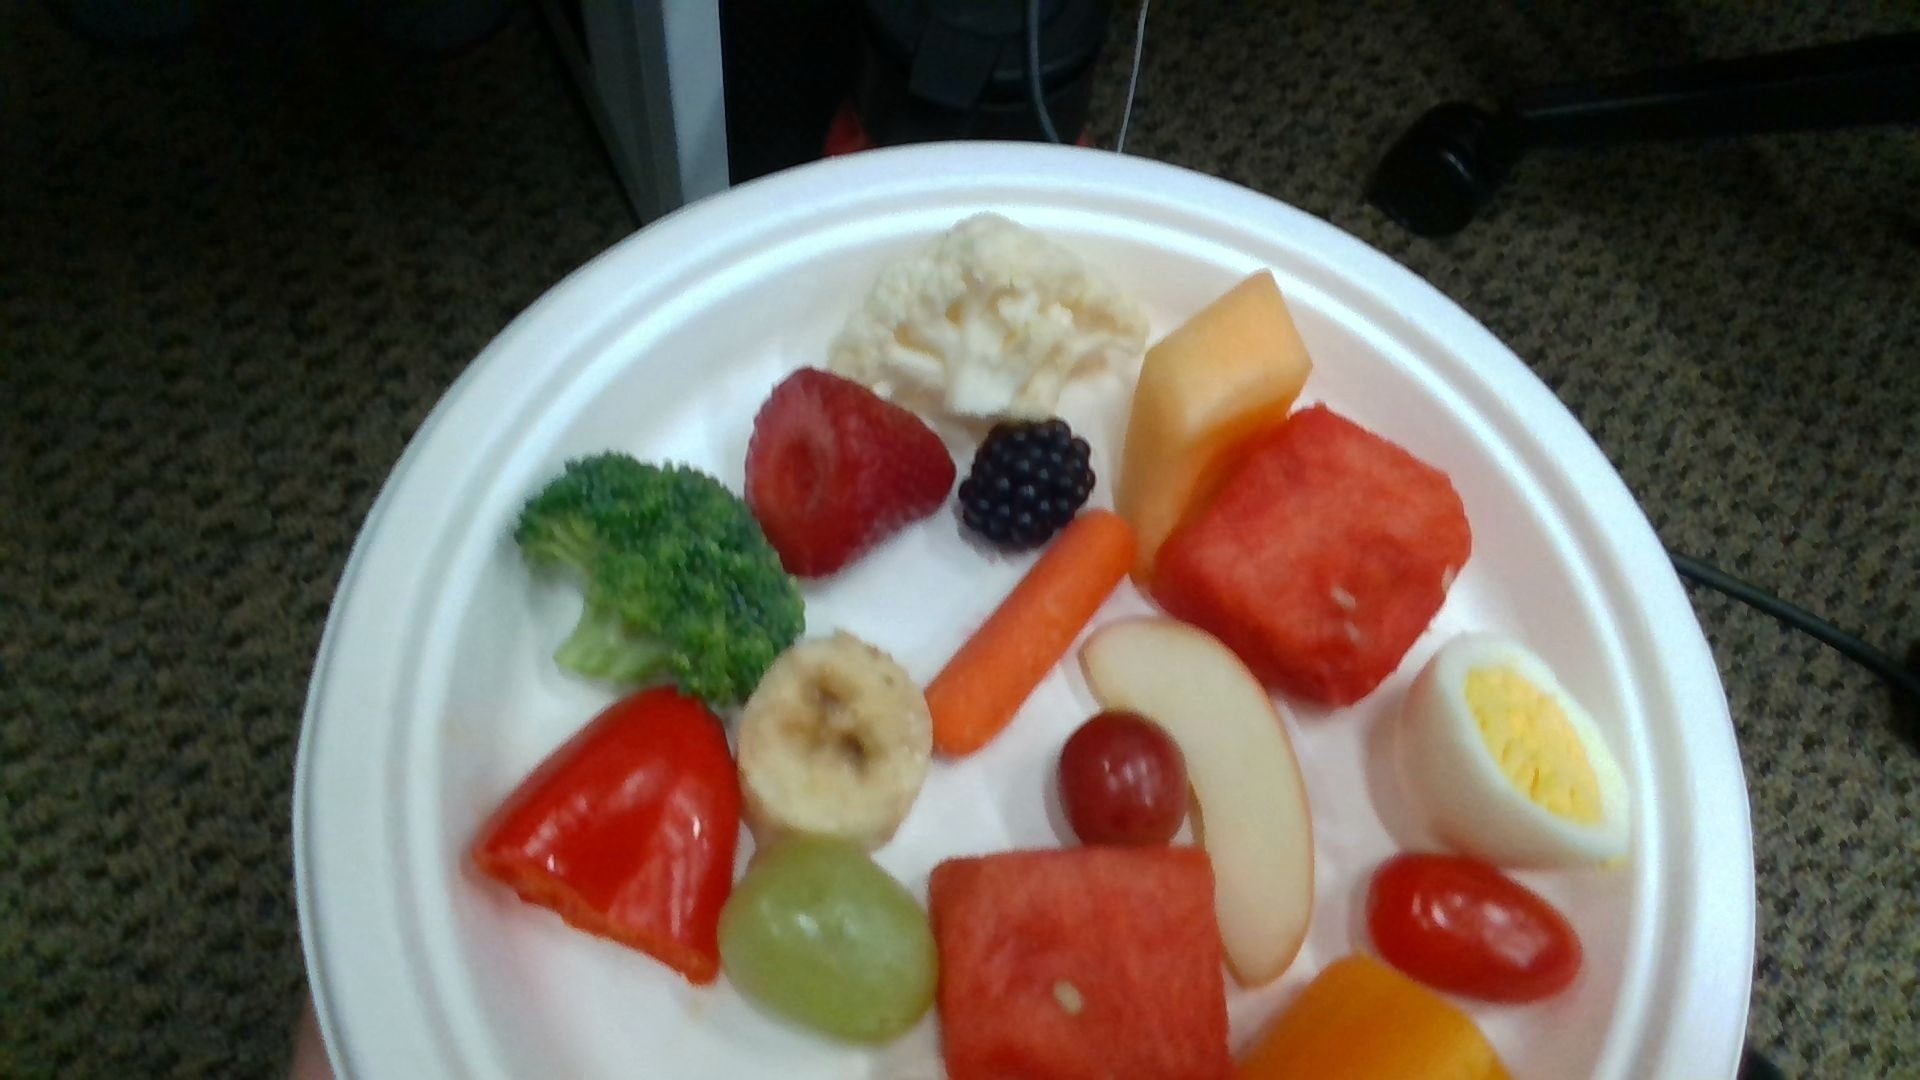apple: (1083, 618, 1312, 982)
banana: (740, 638, 934, 847)
bell_pepper: (479, 690, 742, 982), (1229, 957, 1502, 1080)
blackberry: (960, 421, 1095, 549)
broccoli: (517, 451, 804, 700)
cantalope: (1122, 266, 1309, 560)
carrot: (922, 508, 1135, 756)
cauliflower: (829, 215, 1145, 413)
cherry_tomato: (1370, 856, 1584, 1000)
egg: (1400, 638, 1627, 868)
grape_green: (719, 845, 938, 1040)
grape_purple: (1060, 715, 1189, 845)
melon: (1154, 406, 1470, 702), (930, 847, 1230, 1080)
strawberry: (746, 371, 949, 575)
